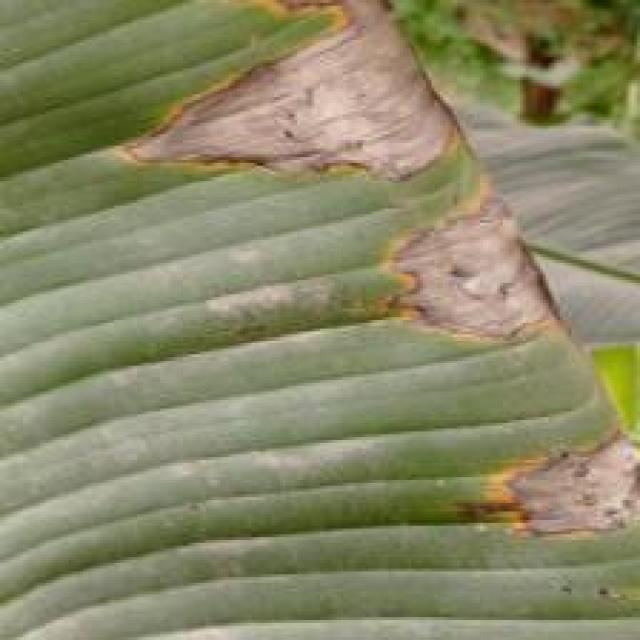Bacterial_spot: (118, 0, 458, 192), (360, 191, 579, 357), (464, 423, 640, 539)
